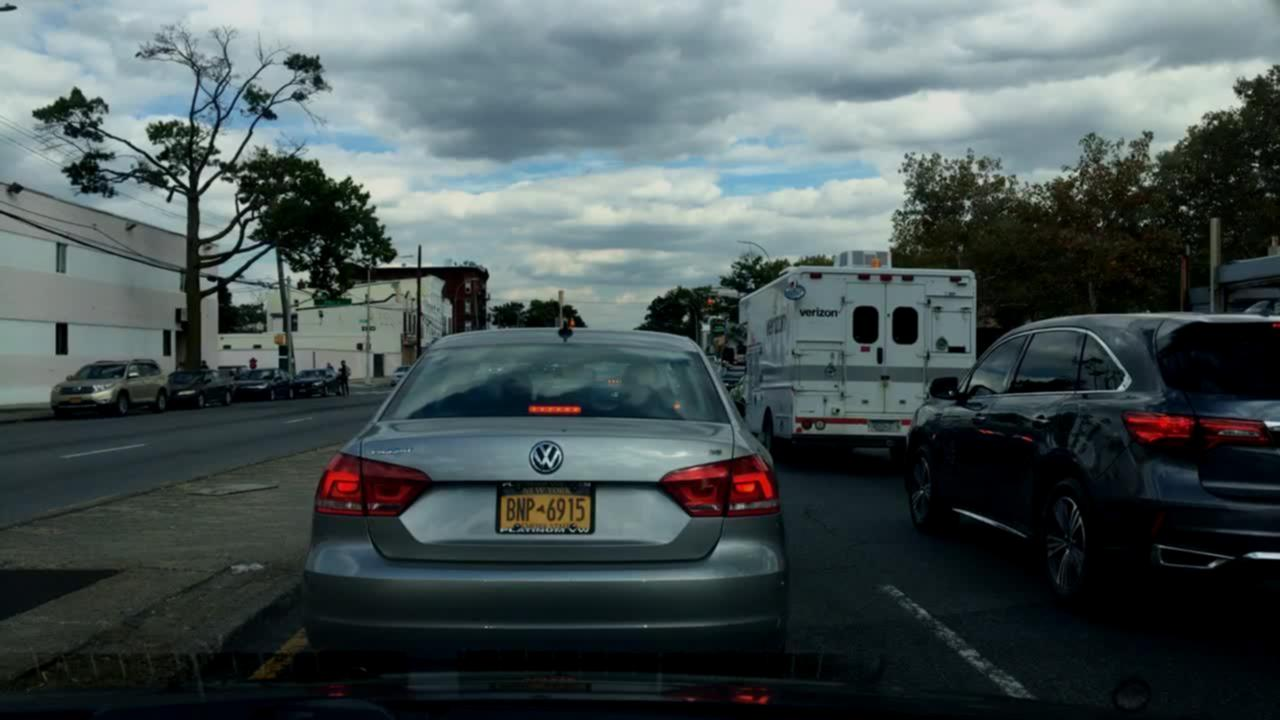Volkswagen: (526, 439, 564, 478)
